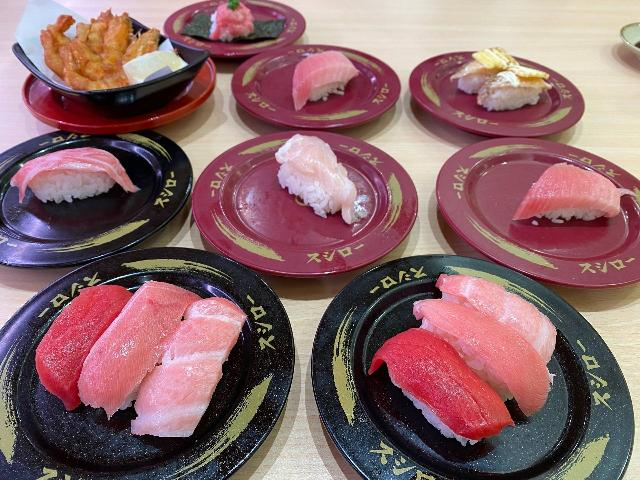janback: (280, 231, 639, 480), (0, 236, 284, 474), (17, 132, 162, 250)
janred: (178, 122, 411, 258), (465, 132, 640, 281), (3, 31, 203, 135), (220, 29, 405, 135), (380, 29, 589, 122), (175, 0, 303, 46)
